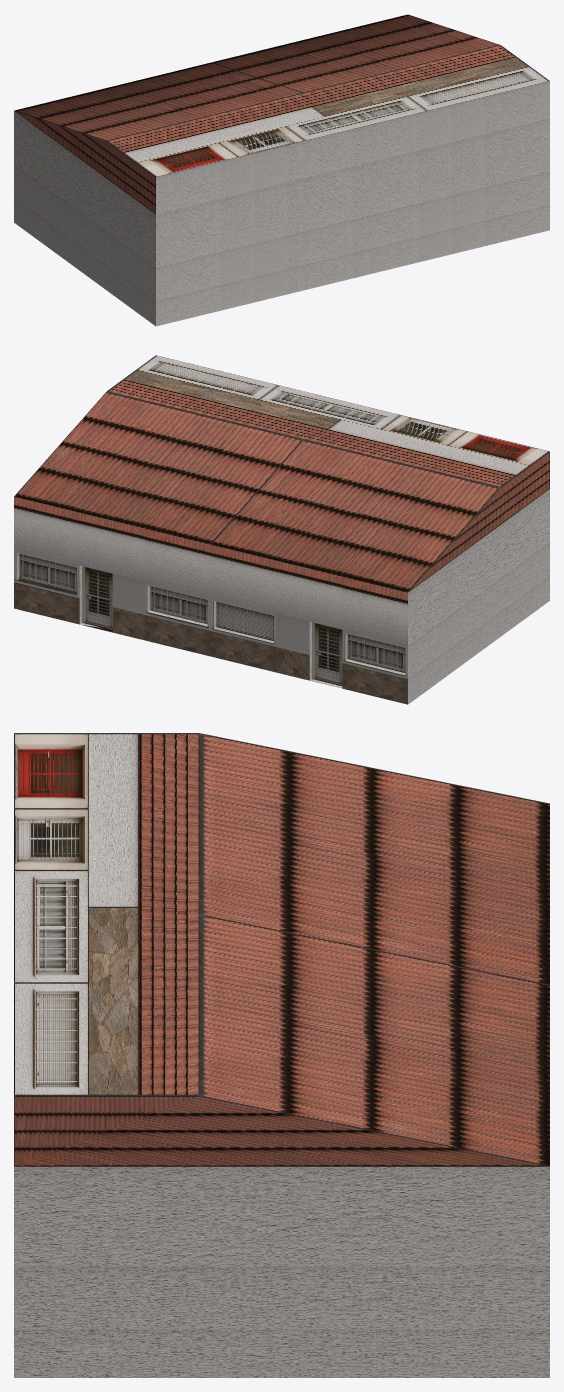
File: CasaPiedras.fbx
3 renders of one model, top to bottom at view 1: azimuth 30°, elevation 25°; view 2: azimuth 150°, elevation 25°; view 3: azimuth 270°, elevation 25°, orthographic. The views are drawn at different scales.
Parts seen in each view (by area): view 1: Box001; view 2: Box001; view 3: Box001.
Part boxes in pixels (box(x1,y1,x2,y2)): Box001: box(14, 14, 549, 326); Box001: box(14, 355, 549, 704); Box001: box(14, 733, 549, 1377).
Bounding box in the file's own units: 11.04 × 6.89 × 4.
1 material, 1 textured.
